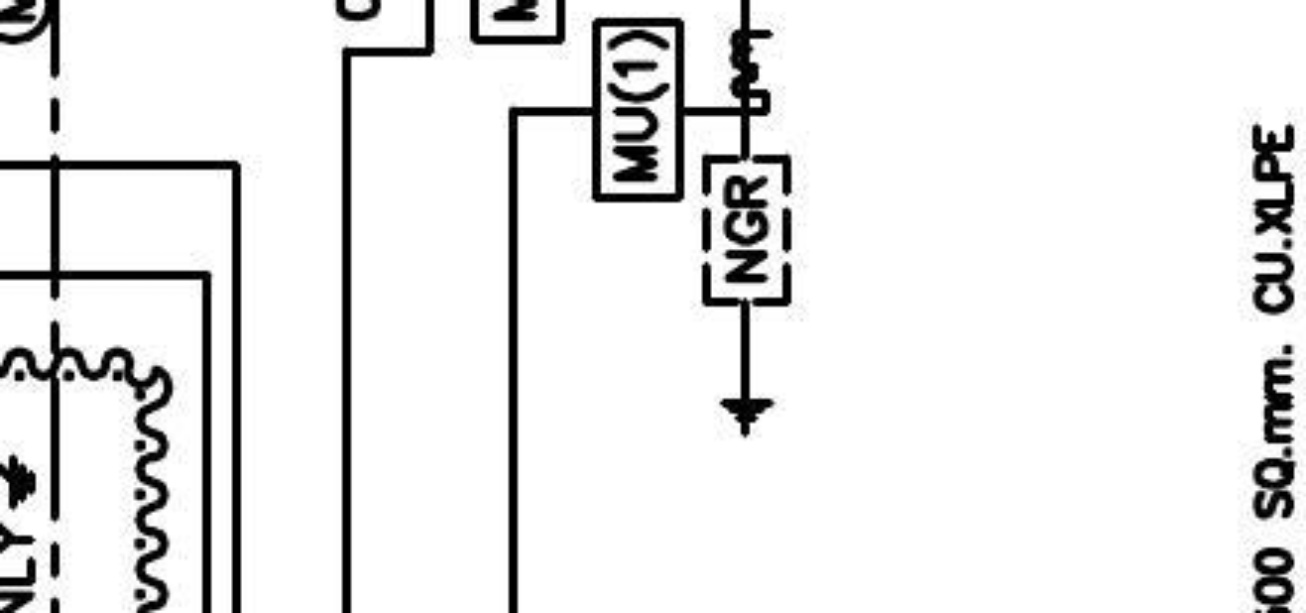MU: (590, 16, 685, 204)
NGR_future: (698, 153, 794, 440)
